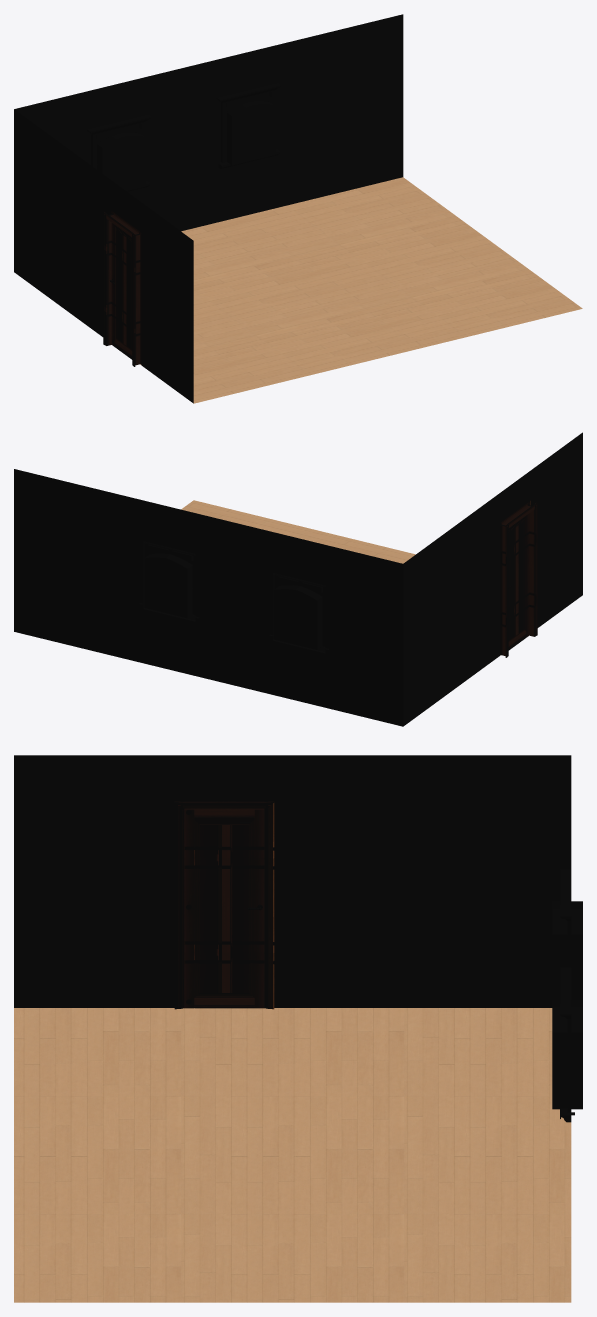
3 renders of one model, top to bottom at view 1: azimuth 30°, elevation 25°; view 2: azimuth 150°, elevation 25°; view 3: azimuth 270°, elevation 25°, orthographic. The views are drawn at different scales.
Visible parts, largest first — view 1: Plane, Plane.006, Plane.002, Plane.003, Plane.005, Plane.007, door1, Plane.004, Plane.001, Cutter.001, Cutter, Window.001 (+2 smaller); view 2: Plane.002, Plane.006, Plane.001, Plane.003, Plane.005, Plane.007, Plane.004, door1, Plane, Cutter, Cutter.001, Window.001 (+2 smaller); view 3: Plane, Plane.006, Plane.007, door1, Plane.008, Cutter.001, Cutter, Window.001, Window.
Part boxes in pixels (<box>): Plane: <box>140,177,582,403</box>; Plane.006: <box>14,109,111,336</box>; Plane.002: <box>127,123,403,231</box>; Plane.003: <box>92,14,403,127</box>; Plane.005: <box>275,55,403,152</box>; Plane.007: <box>141,202,193,403</box>; door1: <box>103,210,141,366</box>; Plane.004: <box>145,100,220,184</box>; Plane.001: <box>14,90,91,165</box>; Cutter.001: <box>227,101,275,165</box>; Cutter: <box>97,132,145,191</box>; Window.001: <box>216,82,281,168</box>; Plane.002: <box>14,577,325,707</box>; Plane.006: <box>403,493,500,726</box>; Plane.001: <box>325,545,403,726</box>; Plane.003: <box>14,469,325,585</box>; Plane.005: <box>14,509,143,608</box>; Plane.007: <box>530,432,582,627</box>; Plane.004: <box>195,554,273,640</box>; door1: <box>500,500,537,657</box>; Plane: <box>181,500,415,563</box>; Cutter: <box>274,585,322,649</box>; Cutter.001: <box>144,553,192,618</box>; Window.001: <box>139,541,198,621</box>; Plane: <box>14,1008,571,1302</box>; Plane.006: <box>269,755,571,1007</box>; Plane.007: <box>14,755,176,1007</box>; door1: <box>174,801,274,1009</box>; Plane.008: <box>176,755,269,801</box>; Cutter.001: <box>552,999,582,1109</box>; Cutter: <box>552,901,582,999</box>; Window.001: <box>560,967,574,1122</box>; Window: <box>560,869,571,967</box>.
Bounding box in the file's own units: 30.54 × 12 × 24.5.
Materials: 5 (5 with a texture image).
